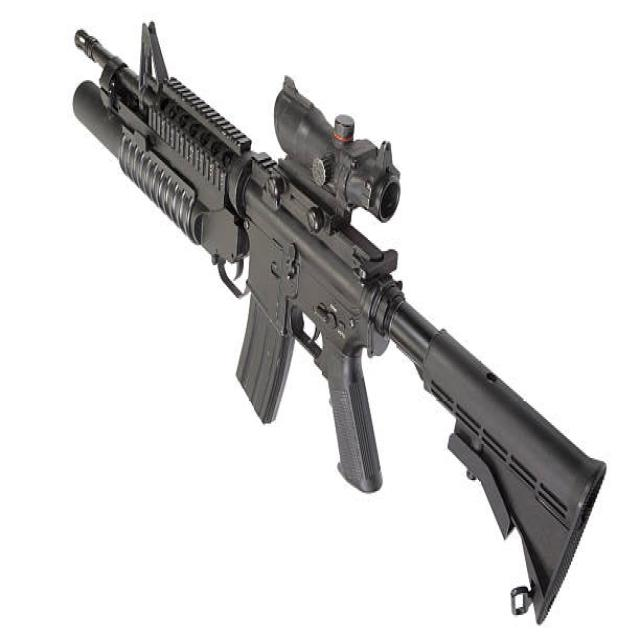rifle: (66, 20, 614, 632)
